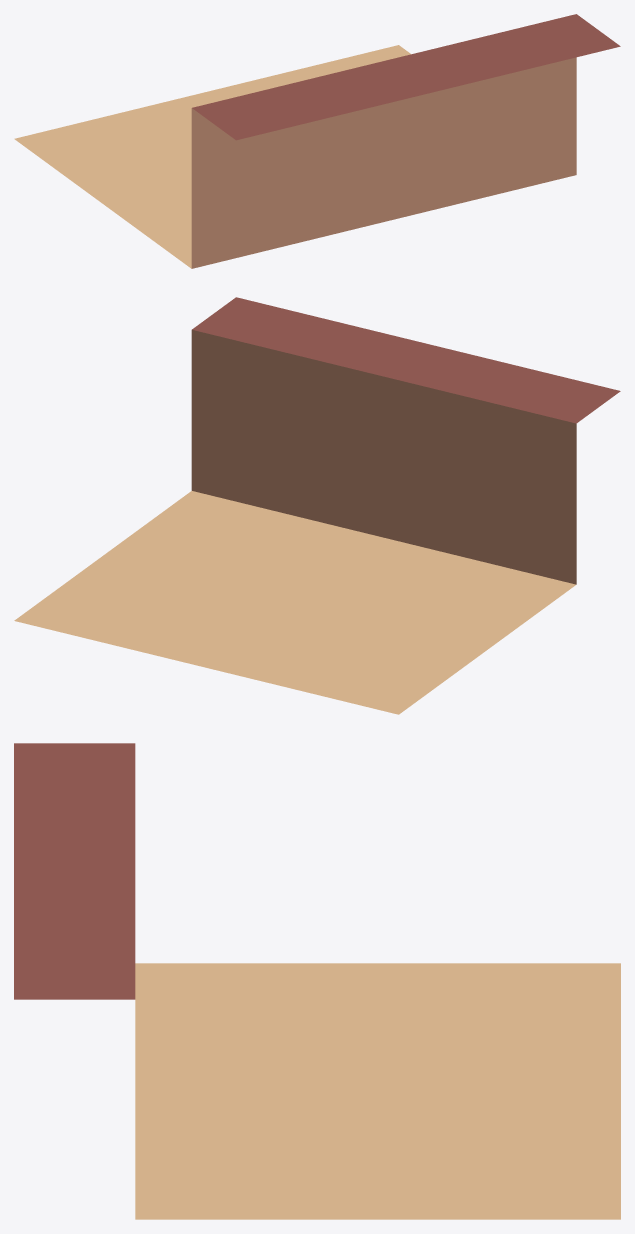
The model's file is SM_Tile_Wall.fbx.
3 renders of one model, top to bottom at view 1: azimuth 30°, elevation 25°; view 2: azimuth 150°, elevation 25°; view 3: azimuth 270°, elevation 25°, orthographic. The views are drawn at different scales.
Visible parts, largest first — view 1: SM_Tile_Wall; view 2: SM_Tile_Wall; view 3: SM_Tile_Wall.
Part boxes in pixels (x1,y1,x2,y2): SM_Tile_Wall: (14, 14, 620, 268); SM_Tile_Wall: (14, 297, 620, 714); SM_Tile_Wall: (14, 743, 620, 1219).
Size of the model in its own units: 500 by 200 by 500.
